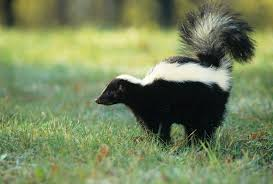skunk: (95, 1, 258, 147)
